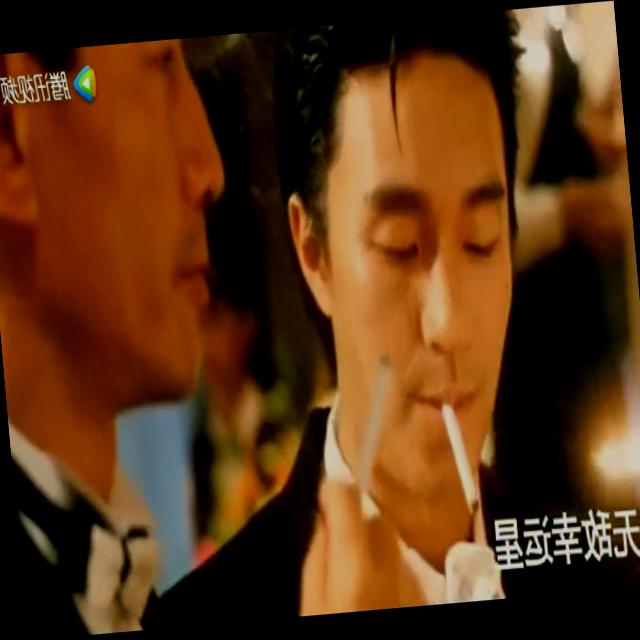smoke: (439, 402, 482, 515)
